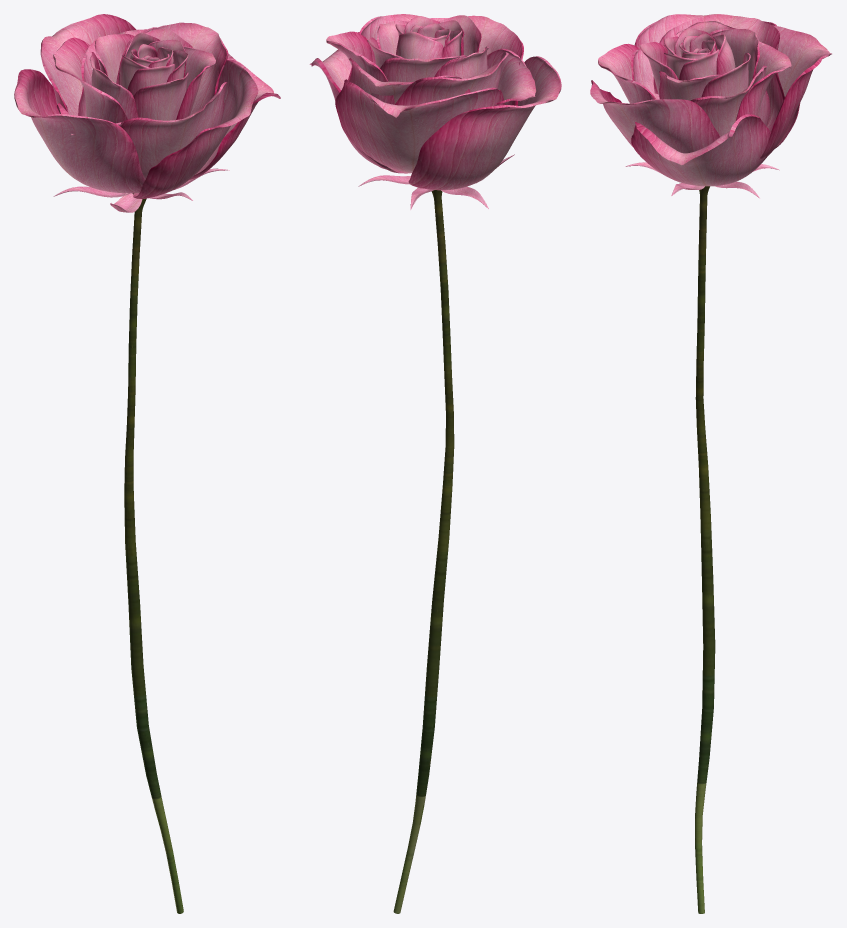
The model's file is rose1.glb.
3 renders of one model, left to right at view 1: azimuth 30°, elevation 25°; view 2: azimuth 150°, elevation 25°; view 3: azimuth 270°, elevation 25°, orthographic. The views are drawn at different scales.
Parts seen in each view (by area): view 1: Subdivision_Surface.040, base, Subdivision_Surface.039, Subdivision_Surface.046, Subdivision_Surface.041, Subdivision_Surface.045, Subdivision_Surface.043, Subdivision_Surface.050, Subdivision_Surface.049, Subdivision_Surface.002, Subdivision_Surface.047, Subdivision_Surface.051 (+2 smaller); view 2: Subdivision_Surface.040, base, Subdivision_Surface.041, Subdivision_Surface.043, Subdivision_Surface.042, Subdivision_Surface.045, Subdivision_Surface.046, Subdivision_Surface.047, Subdivision_Surface.002, Subdivision_Surface.044, Subdivision_Surface.056, Subdivision_Surface.051 (+3 smaller); view 3: base, Subdivision_Surface.002, Subdivision_Surface.039, Subdivision_Surface.041, Subdivision_Surface.043, Subdivision_Surface.045, Subdivision_Surface.044, Subdivision_Surface.046, Subdivision_Surface.047, Subdivision_Surface.040, Subdivision_Surface.049, Subdivision_Surface.048 (+4 smaller).
Boxes of the visible parts, <box> form: Subdivision_Surface.040: <box>14,69,145,193</box>; base: <box>124,193,183,913</box>; Subdivision_Surface.039: <box>133,59,258,198</box>; Subdivision_Surface.046: <box>120,82,227,179</box>; Subdivision_Surface.041: <box>40,14,136,115</box>; Subdivision_Surface.045: <box>140,22,228,114</box>; Subdivision_Surface.043: <box>53,37,127,123</box>; Subdivision_Surface.050: <box>133,72,188,120</box>; Subdivision_Surface.049: <box>176,46,215,119</box>; Subdivision_Surface.002: <box>189,53,280,179</box>; Subdivision_Surface.047: <box>94,34,134,83</box>; Subdivision_Surface.051: <box>89,52,138,119</box>; Subdivision_Surface.040: <box>408,56,561,190</box>; base: <box>393,190,454,913</box>; Subdivision_Surface.041: <box>335,79,504,172</box>; Subdivision_Surface.043: <box>395,52,508,105</box>; Subdivision_Surface.042: <box>487,48,535,105</box>; Subdivision_Surface.045: <box>326,31,394,104</box>; Subdivision_Surface.046: <box>430,15,523,105</box>; Subdivision_Surface.047: <box>380,55,466,81</box>; Subdivision_Surface.002: <box>309,32,411,173</box>; Subdivision_Surface.044: <box>349,58,470,103</box>; Subdivision_Surface.056: <box>396,31,443,59</box>; Subdivision_Surface.051: <box>434,46,488,78</box>; base: <box>695,186,715,913</box>; Subdivision_Surface.002: <box>631,114,770,186</box>; Subdivision_Surface.039: <box>590,80,720,153</box>; Subdivision_Surface.041: <box>760,25,831,158</box>; Subdivision_Surface.043: <box>653,14,784,132</box>; Subdivision_Surface.045: <box>690,65,770,136</box>; Subdivision_Surface.044: <box>736,41,791,120</box>; Subdivision_Surface.046: <box>598,43,656,103</box>; Subdivision_Surface.047: <box>709,29,759,86</box>; Subdivision_Surface.040: <box>634,14,800,148</box>; Subdivision_Surface.049: <box>659,71,721,100</box>; Subdivision_Surface.048: <box>701,53,750,97</box>.
Bounding box in the file's own units: 32.45 × 112 × 28.47.
2 materials, 2 textured.
